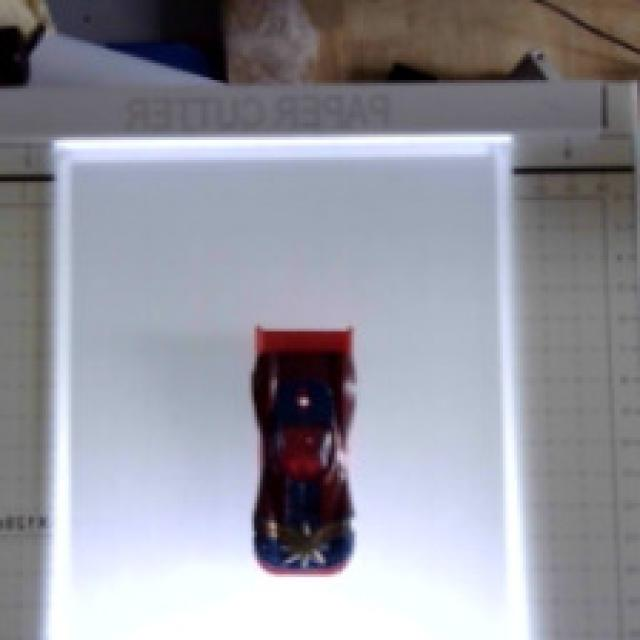Red Car: (204, 307, 406, 598)
